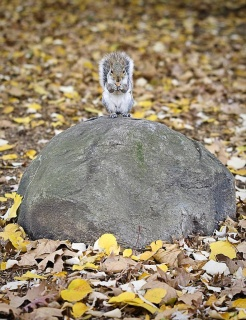Squirrel: (98, 49, 135, 118)
